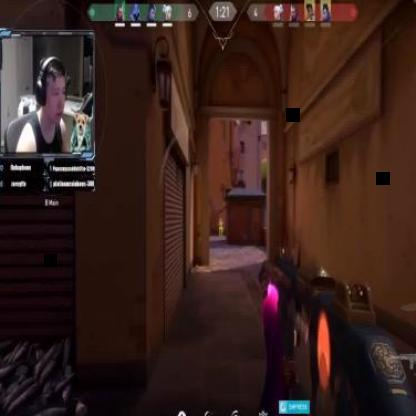enemy: (218, 218, 222, 238)
enemy_head: (219, 218, 221, 221)
